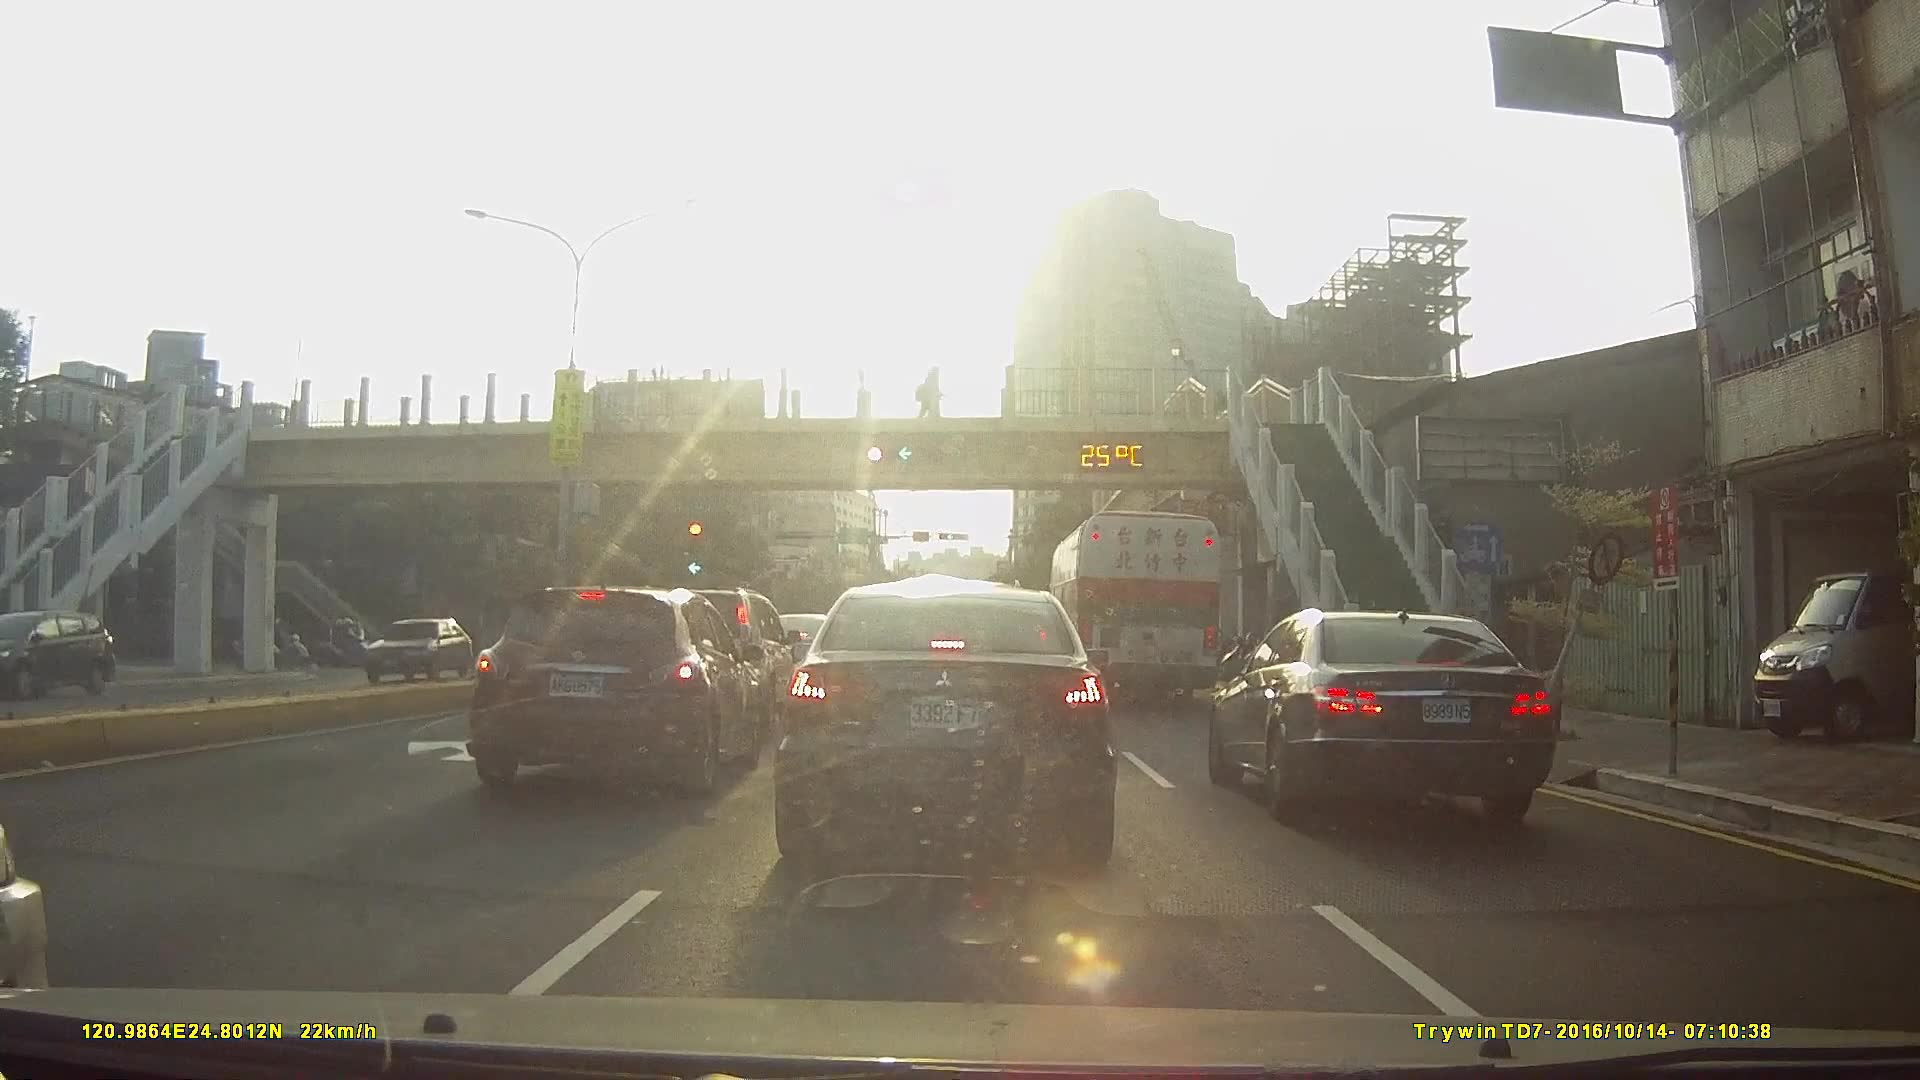pedestrian: (919, 368, 941, 417)
rider: (319, 614, 387, 670)
vehicle: (769, 578, 1120, 864), (1202, 601, 1550, 828), (460, 580, 765, 797), (1048, 508, 1222, 701), (0, 607, 114, 700), (352, 616, 467, 682)
